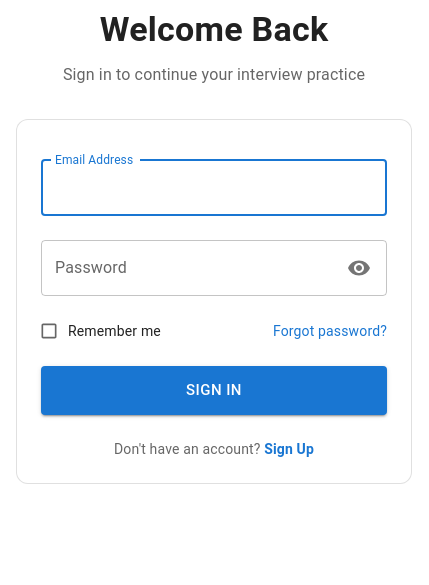
Test: Login Component › Error Handling › shows network error message for status 0
Type "john@example.com" into the field labelled "Email Address" at (214, 188), box [41, 160, 387, 216]
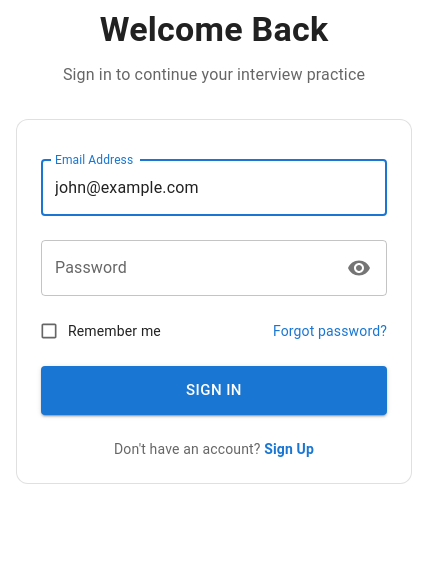
Type "Password123" into the password field labelled "Password" at (188, 268), box [41, 240, 334, 296]
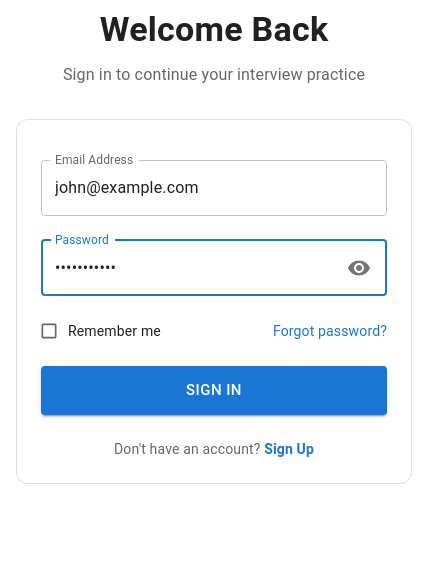
Click the button "Sign In" at (214, 390), box [41, 366, 387, 414]
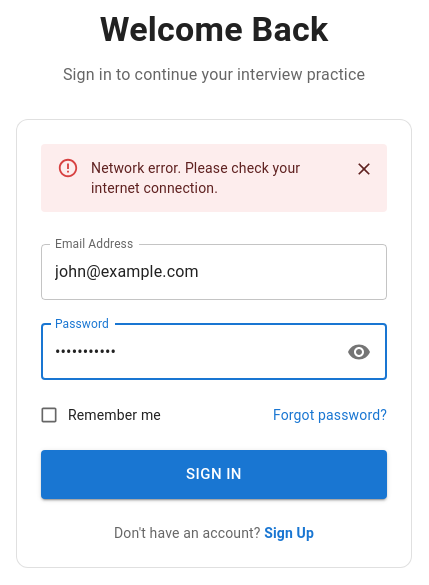
Expected: the text "Network error. Please check your internet connection." is shown, [91, 150, 333, 206]
